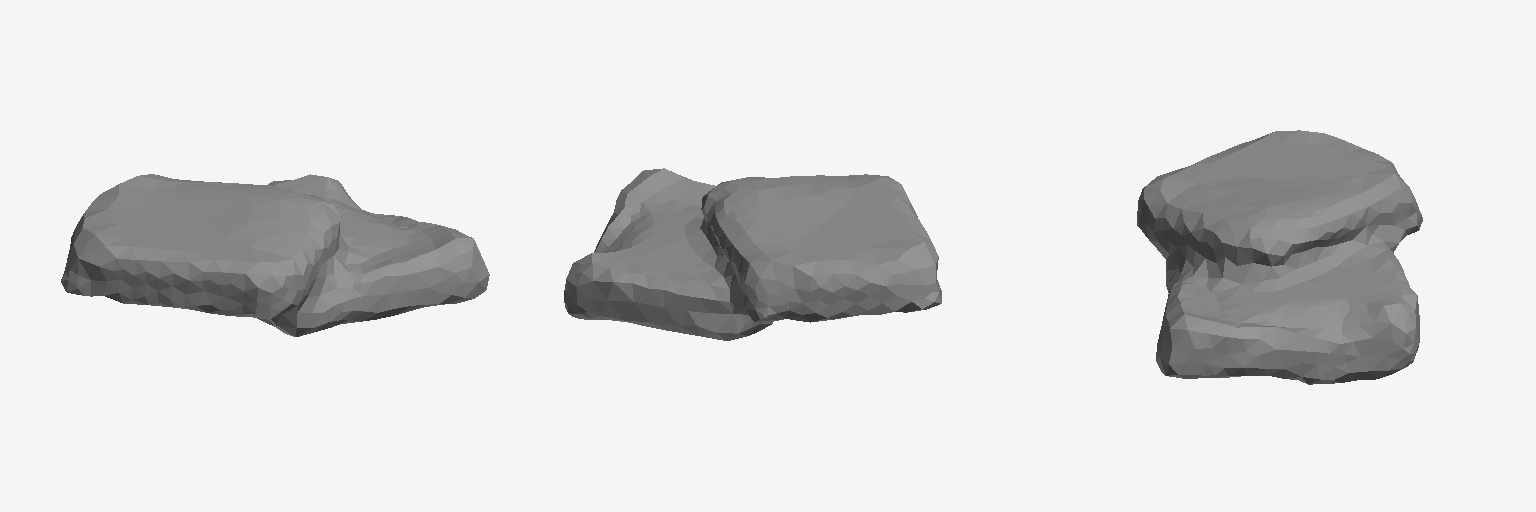
Rendered from plataforma_5.obj.
3 renders of one model, left to right at view 1: azimuth 30°, elevation 25°; view 2: azimuth 150°, elevation 25°; view 3: azimuth 270°, elevation 25°, orthographic.
Parts seen in each view (by area): view 1: StonePlatform_C_Stone_C; view 2: StonePlatform_C_Stone_C; view 3: StonePlatform_C_Stone_C.
Boxes of the visible parts, <box> form: StonePlatform_C_Stone_C: <box>61,174,489,336</box>; StonePlatform_C_Stone_C: <box>564,168,941,340</box>; StonePlatform_C_Stone_C: <box>1137,130,1422,384</box>.
Bounding box in the file's own units: 2.65 × 0.7934 × 1.81.